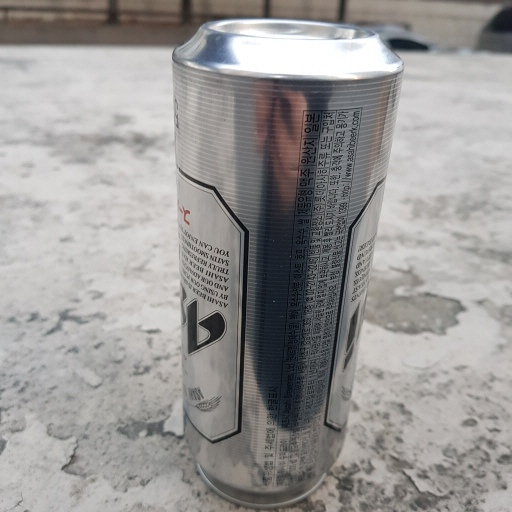Metal_0: (169, 19, 402, 506)
